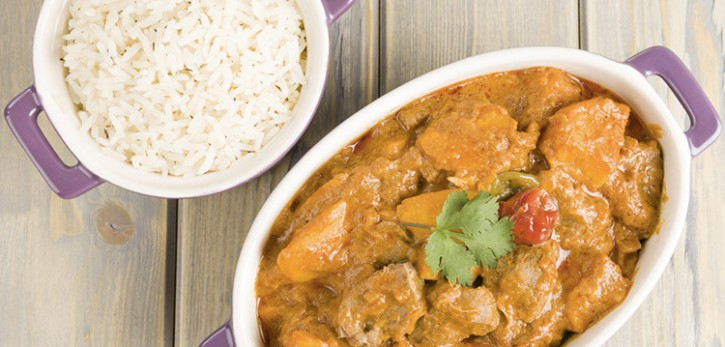celeri: (438, 197, 493, 236)
piment rouge et vert: (525, 172, 543, 238)
riz: (80, 1, 292, 109)
sauce: (455, 81, 512, 92)
viande de boeuf: (468, 100, 508, 169)
